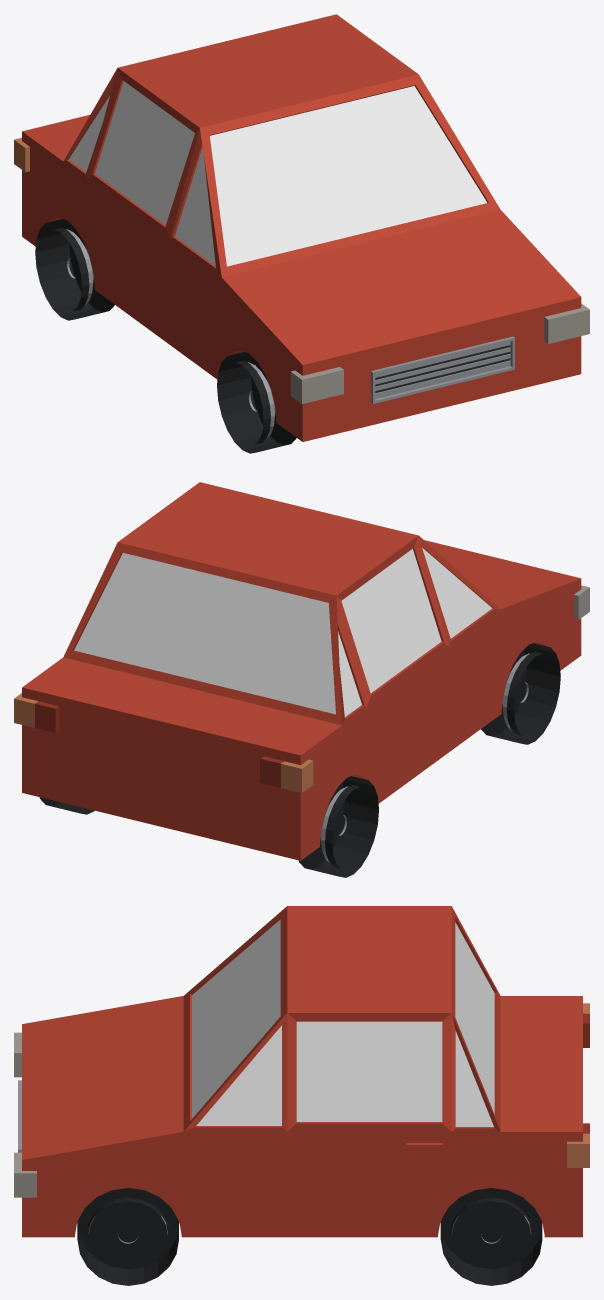
The model's file is SM_car_02.gltf.
3 views of the same model, one above another, from view 1: azimuth 30°, elevation 25°; view 2: azimuth 150°, elevation 25°; view 3: azimuth 270°, elevation 25° (orthographic).
Visible parts, largest first — view 1: SM_car_02, wheel_08, wheel_07; view 2: SM_car_02, wheel_07, wheel_08; view 3: SM_car_02, whee;_05, wheel_06.
Part boxes in pixels (x1,y1,x2,y2): SM_car_02: (14, 14, 589, 441); wheel_08: (35, 219, 114, 320); wheel_07: (217, 352, 296, 453); SM_car_02: (14, 482, 589, 860); wheel_07: (481, 643, 560, 744); wheel_08: (298, 776, 378, 877); SM_car_02: (14, 906, 589, 1237); whee;_05: (440, 1188, 542, 1285); wheel_06: (77, 1188, 178, 1285).
Size of the model in its own units: 0.8477 by 0.7049 by 1.44.
